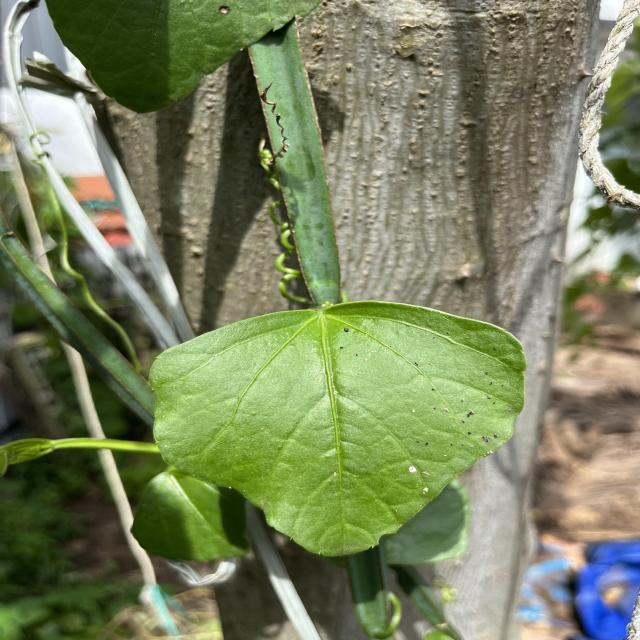Cissus quadrangularis: (142, 295, 532, 561)
